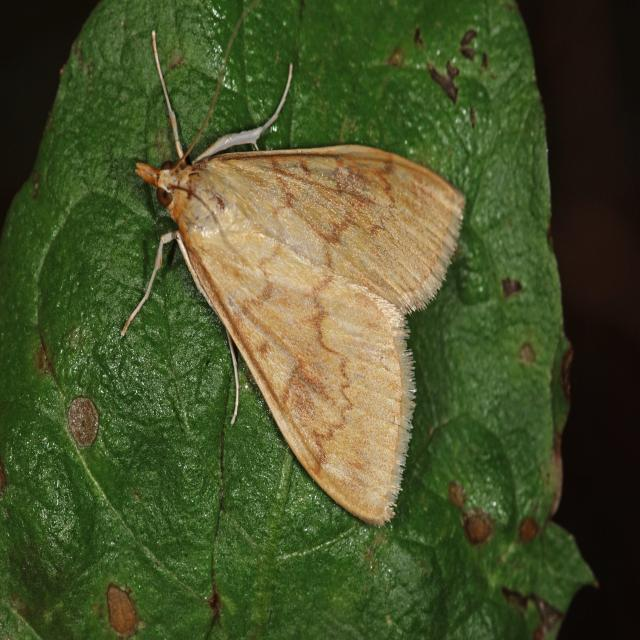cornborer-Adult-: (110, 111, 467, 542)
